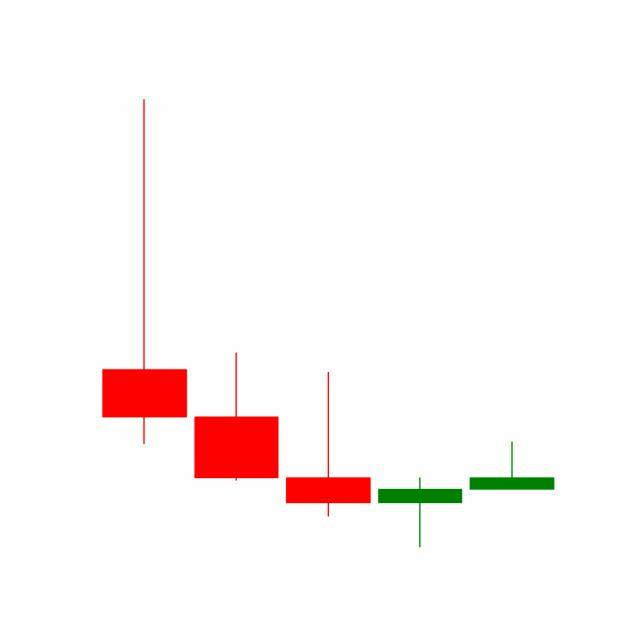Gravestone Doji: (466, 441, 559, 490)
